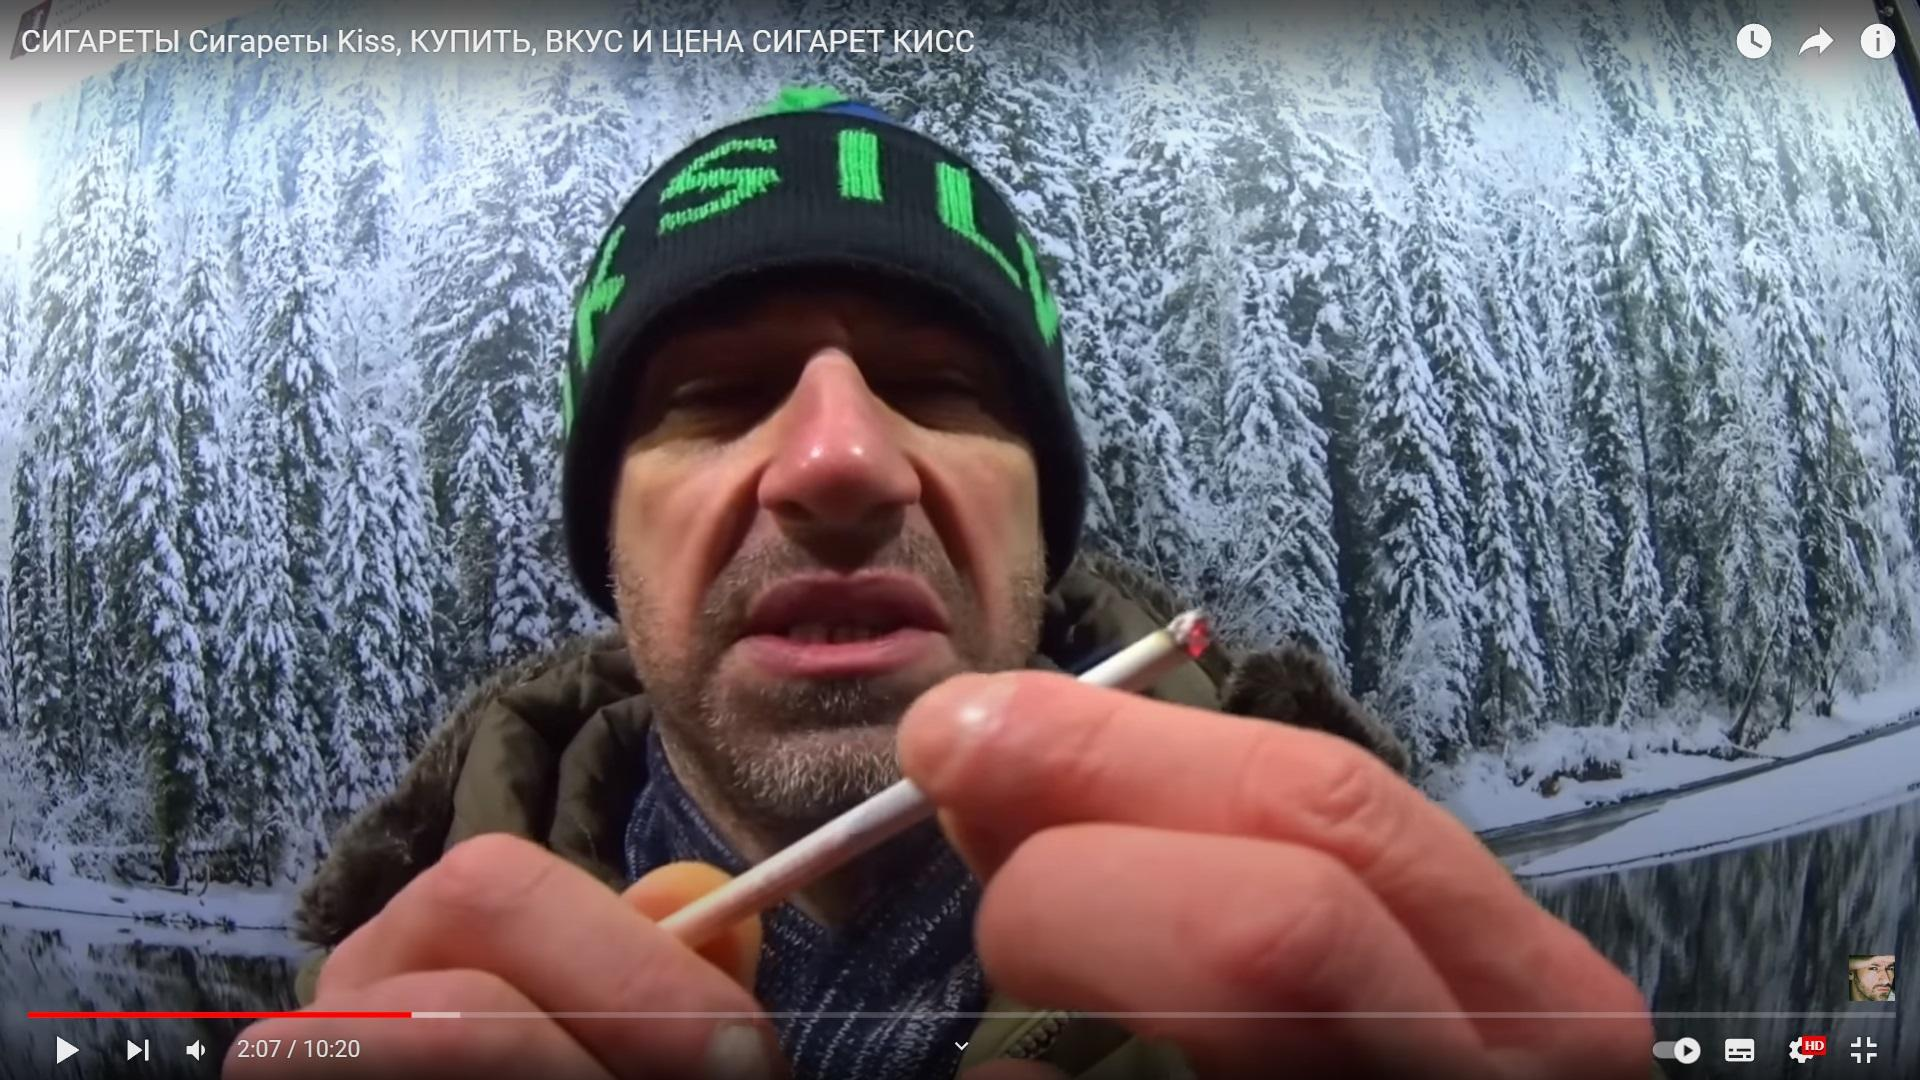cigarette: (654, 612, 1212, 951)
